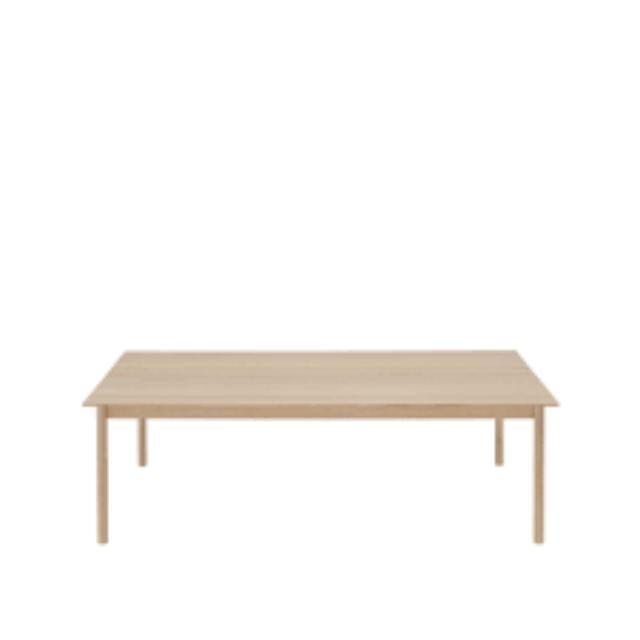obstacle: (77, 264, 589, 606)
